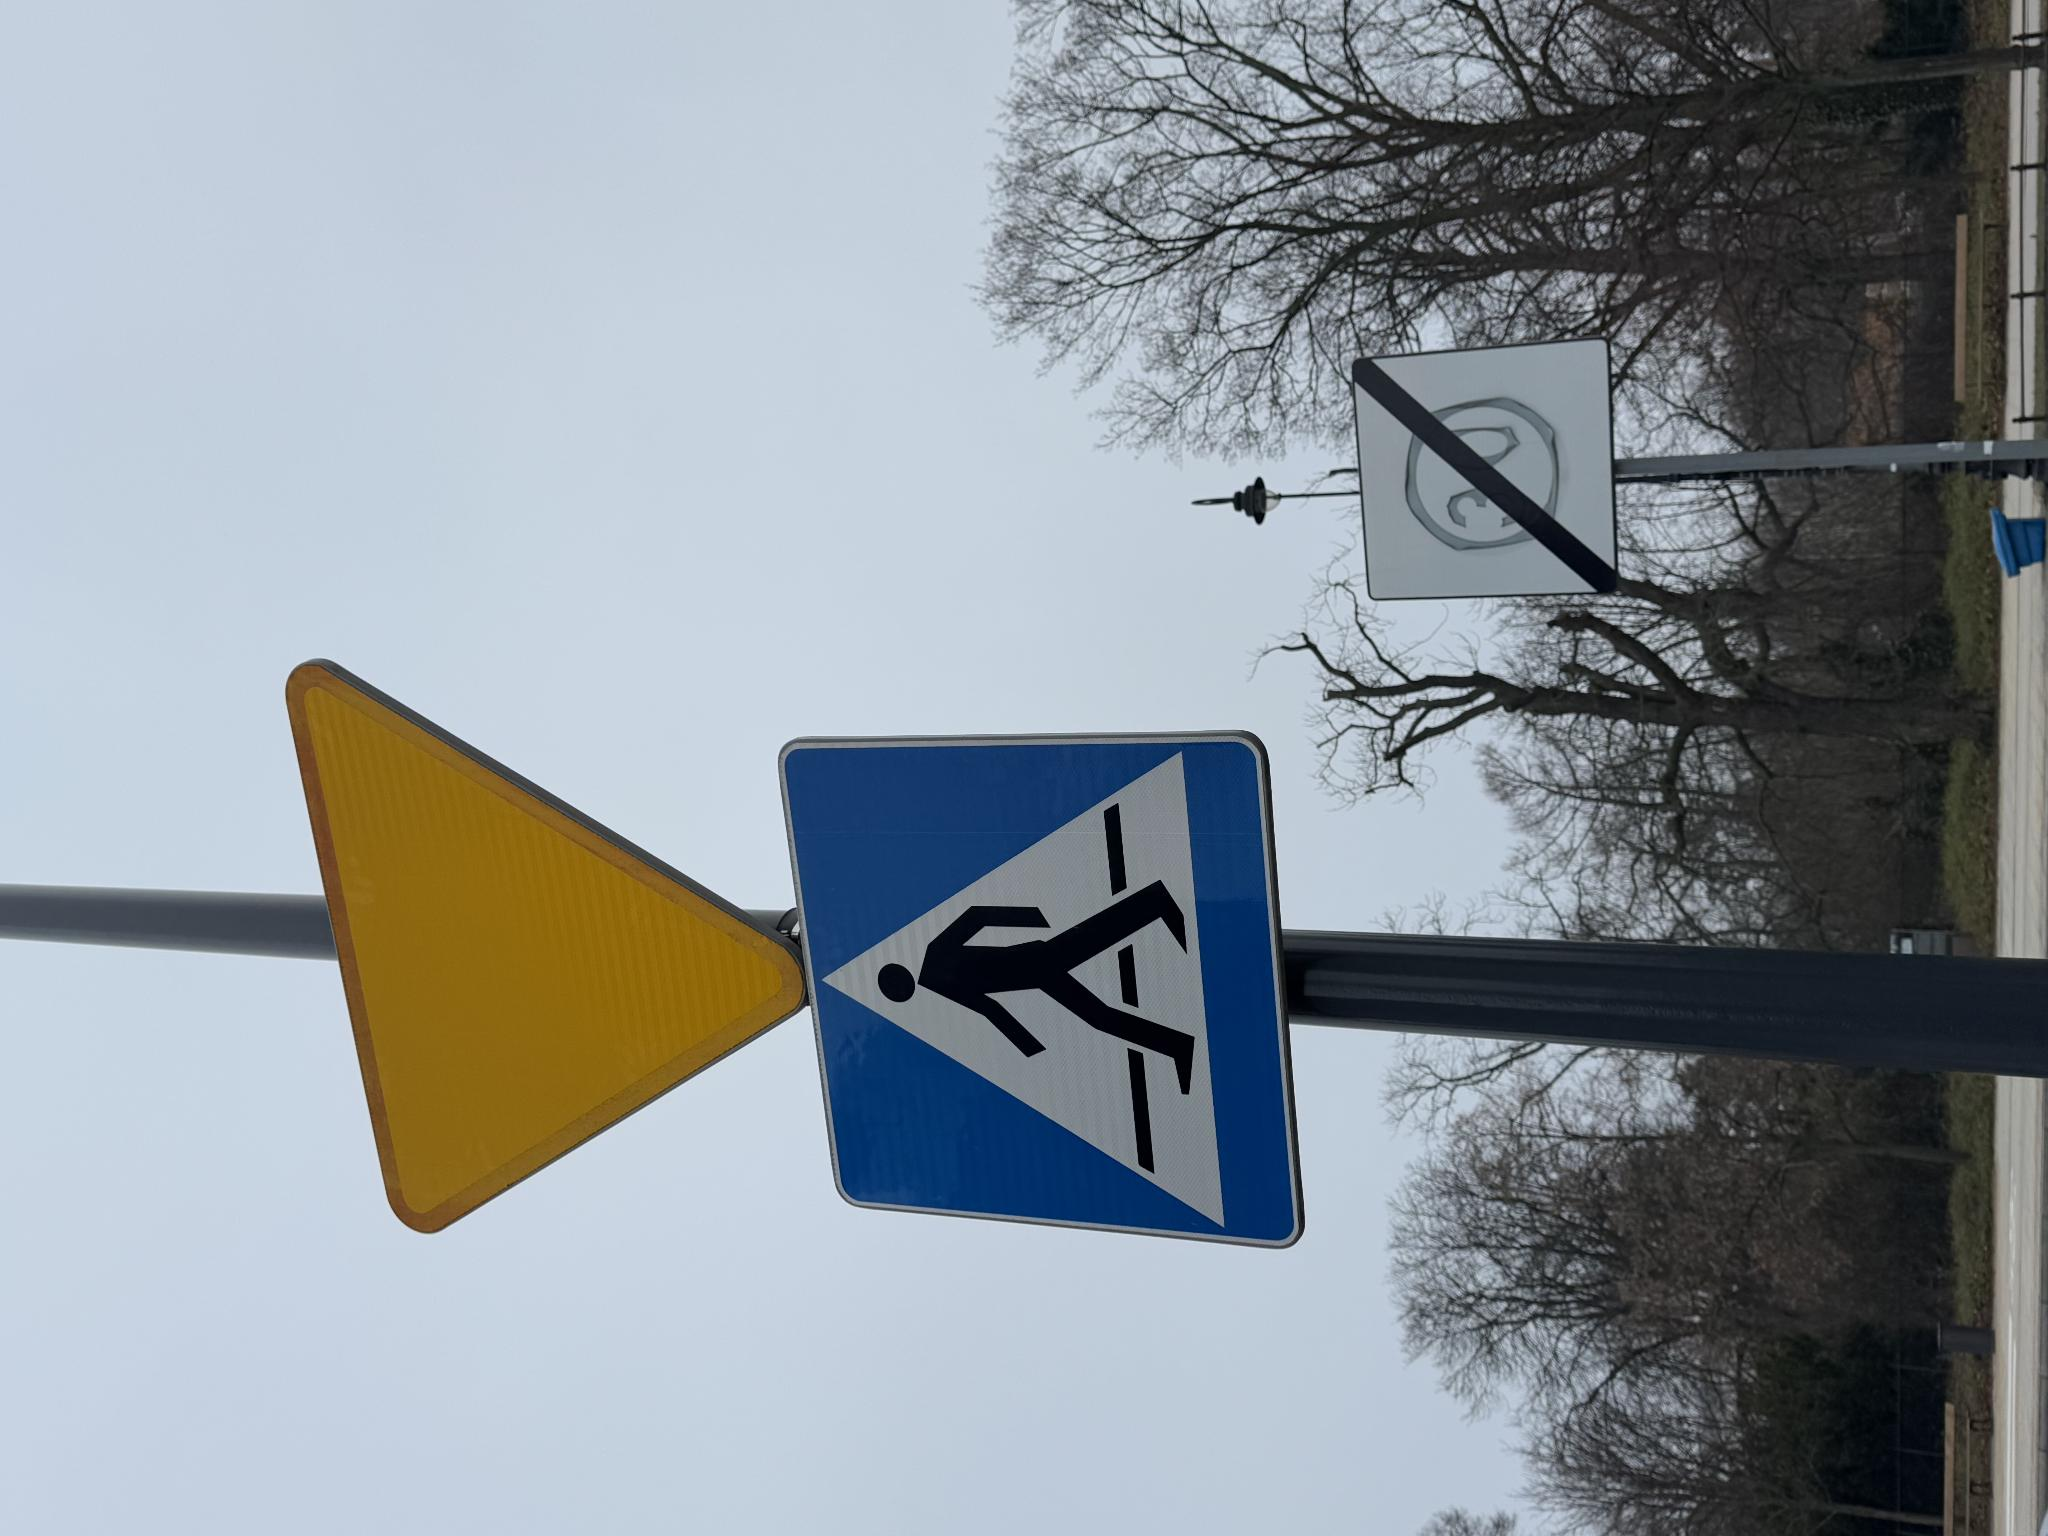information: (284, 776, 811, 1310)
prohibitory: (979, 1400, 1143, 1536)
warning: (298, 281, 882, 805)
